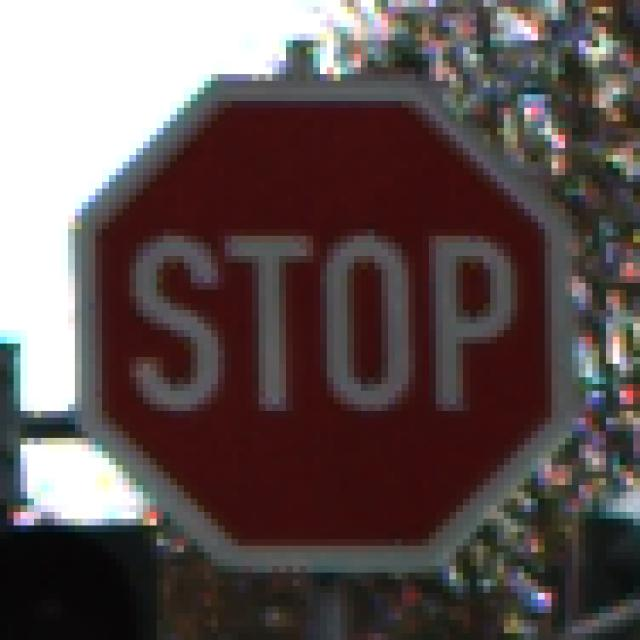STOP: (56, 62, 587, 580)
